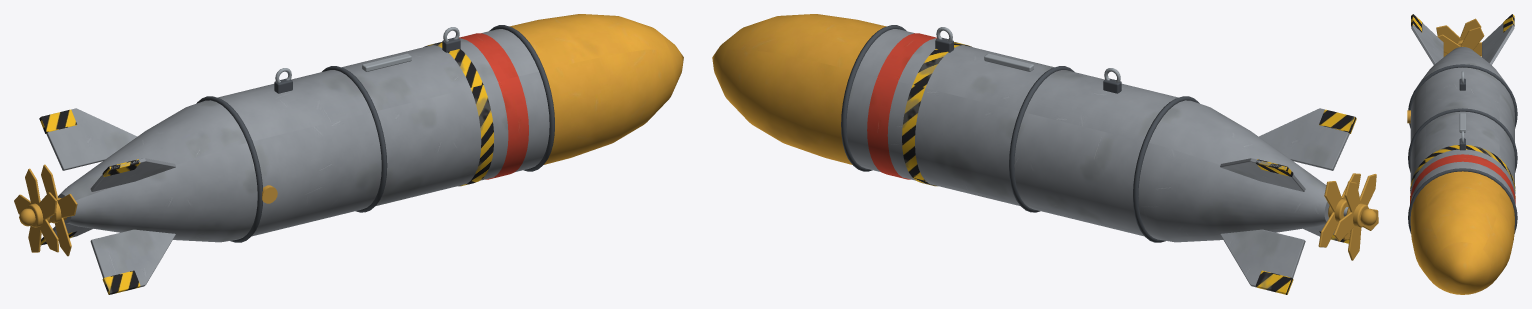
The model's file is Torpedo.glb.
The picture shows the model from 3 angles, left to right: view 1: azimuth 30°, elevation 25°; view 2: azimuth 150°, elevation 25°; view 3: azimuth 270°, elevation 25°; orthographic projection. The views are drawn at different scales.
Parts seen in each view (by area): view 1: Torpedo_Body, Torpedo_Propeller2, Torpedo_Propeller1; view 2: Torpedo_Body, Torpedo_Propeller2, Torpedo_Propeller1; view 3: Torpedo_Body, Torpedo_Propeller2, Torpedo_Propeller1.
Boxes of the visible parts, bbox=[...] form: Torpedo_Body: bbox=[19, 14, 683, 294]; Torpedo_Propeller2: bbox=[14, 168, 58, 252]; Torpedo_Propeller1: bbox=[41, 164, 77, 256]; Torpedo_Body: bbox=[712, 14, 1376, 294]; Torpedo_Propeller2: bbox=[1333, 174, 1378, 260]; Torpedo_Propeller1: bbox=[1318, 173, 1360, 247]; Torpedo_Body: bbox=[1407, 14, 1517, 294]; Torpedo_Propeller2: bbox=[1436, 18, 1481, 56]; Torpedo_Propeller1: bbox=[1437, 27, 1484, 56].
Size of the model in its own units: 2.57 by 0.574 by 0.507.
7 materials, 4 textured.
